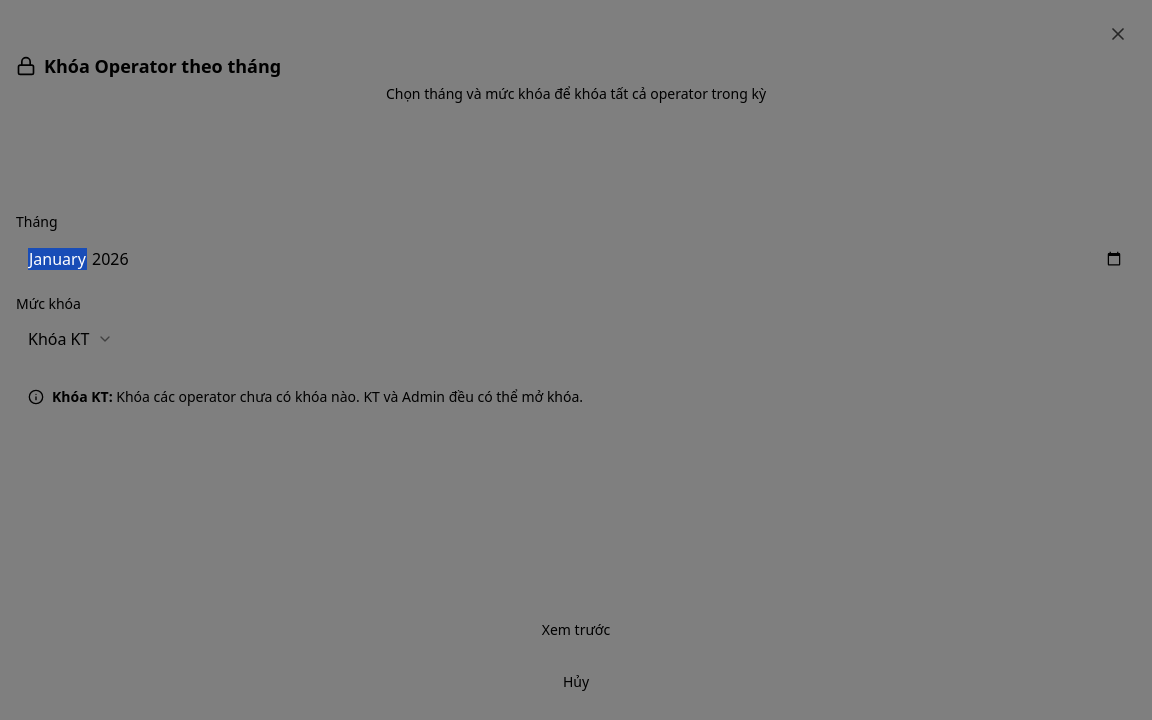
Test: OperatorLockDialog › Tier Info Display › shows Admin tier info when Admin selected
# Open select and choose Admin
Click the dropdown named "Mức khóa".
click(71, 339)  # box [16,319,125,359]
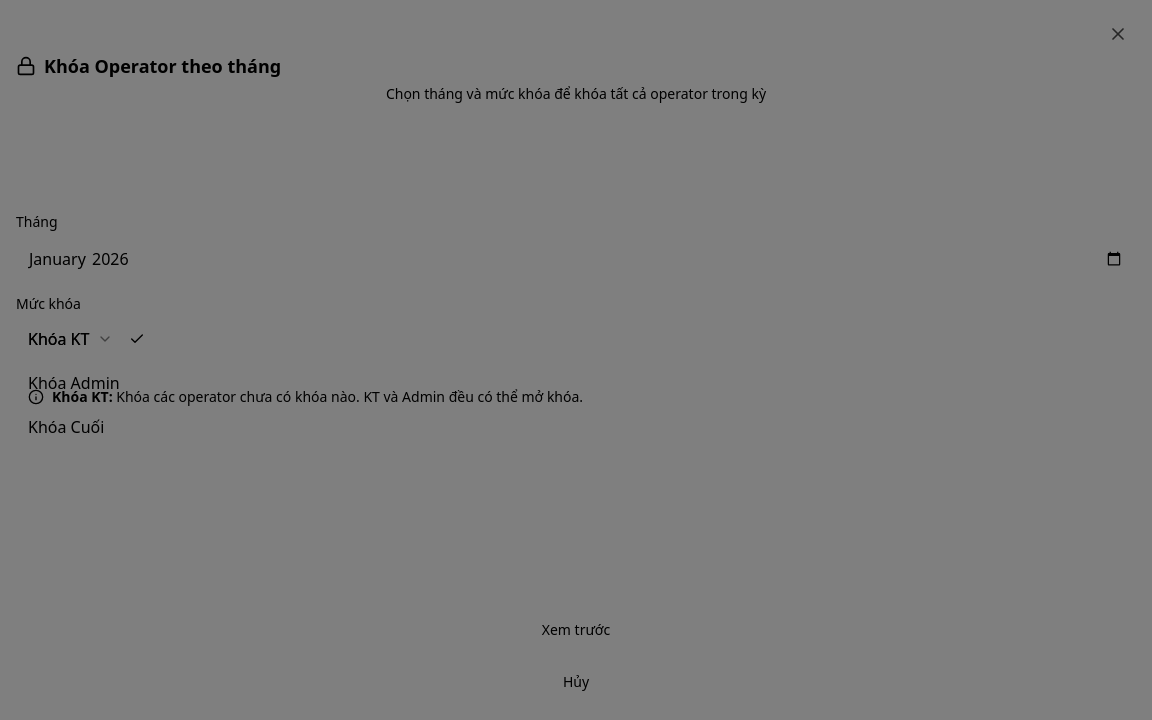
Click the option "Khóa Admin".
click(74, 383)  # box [28,372,120,394]
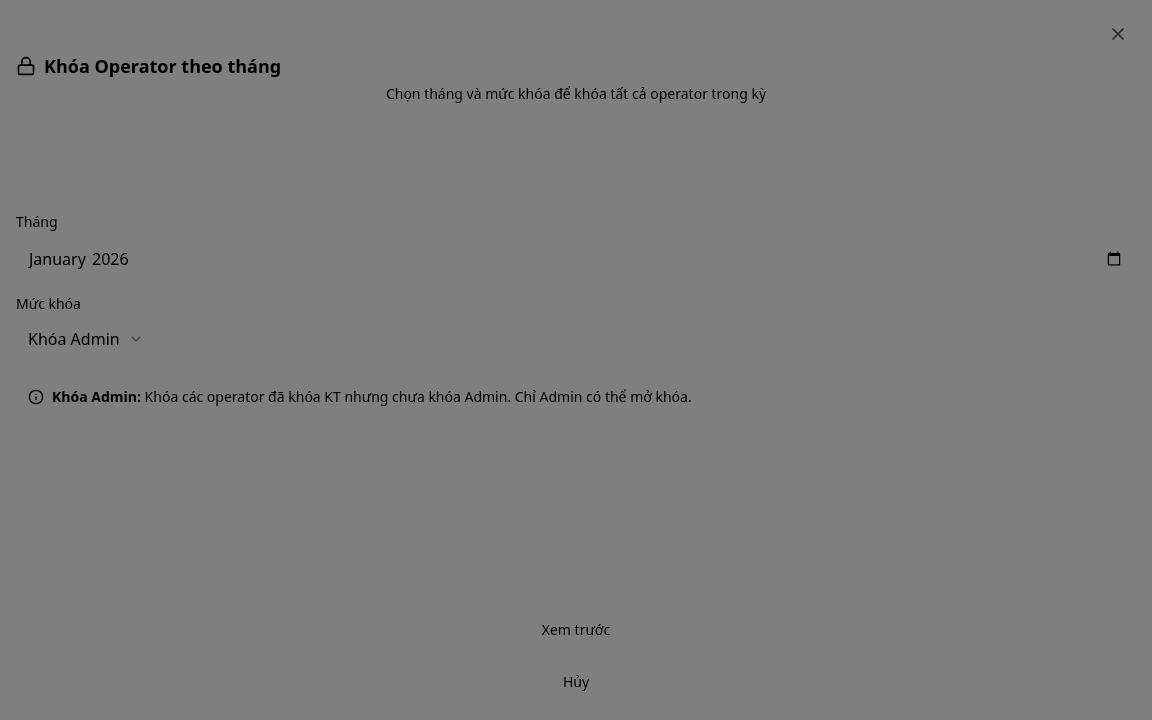
Result: the text "Khóa Admin:" is shown at [52,387,141,406]
Result: the text "Chỉ Admin có thể mở khóa" is shown at [141,387,692,406]
